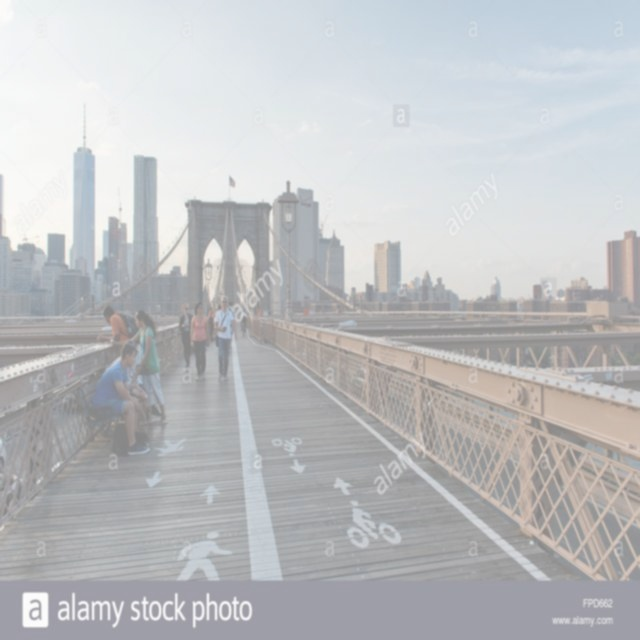pessoa: (107, 308, 170, 430), (90, 342, 150, 457), (96, 304, 147, 392), (110, 340, 149, 400), (214, 294, 238, 384), (190, 302, 210, 382), (178, 302, 194, 368), (207, 300, 221, 342), (228, 300, 235, 349), (238, 308, 248, 332)
